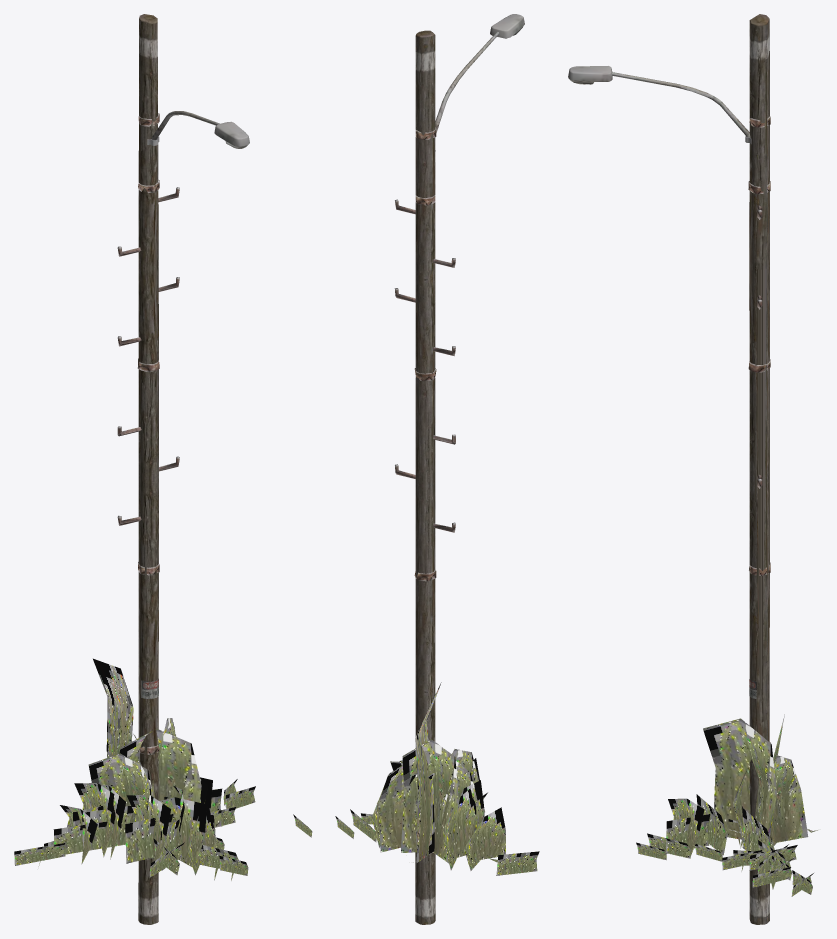
Rendered from powerline_pole_c_streetlight_hapis_off.glb.
3 renders of one model, left to right at view 1: azimuth 30°, elevation 25°; view 2: azimuth 150°, elevation 25°; view 3: azimuth 270°, elevation 25°, orthographic.
Visible parts, largest first — view 1: powerline_pole_c_LOD0, cracks_grass_c_temperate, cracks_grass_a_temperate, cracks_grass_d_temperate, powerline_pole_light_LOD0; view 2: powerline_pole_c_LOD0, cracks_grass_c_temperate, cracks_grass_a_temperate, cracks_grass_d_temperate, powerline_pole_light_LOD0; view 3: powerline_pole_c_LOD0, cracks_grass_a_temperate, cracks_grass_d_temperate, cracks_grass_c_temperate, powerline_pole_light_LOD0.
Boxes of the visible parts, box(x1,y1,x2,y2) form: powerline_pole_c_LOD0: box(117, 14, 179, 924); cracks_grass_c_temperate: box(44, 658, 255, 877); cracks_grass_a_temperate: box(14, 718, 235, 866); cracks_grass_d_temperate: box(133, 760, 248, 880); powerline_pole_light_LOD0: box(147, 111, 249, 148); powerline_pole_c_LOD0: box(394, 30, 455, 924); cracks_grass_c_temperate: box(371, 682, 487, 870); cracks_grass_a_temperate: box(377, 760, 539, 875); cracks_grass_d_temperate: box(293, 749, 478, 842); powerline_pole_light_LOD0: box(435, 14, 524, 151); powerline_pole_c_LOD0: box(748, 14, 770, 924); cracks_grass_a_temperate: box(703, 718, 776, 871); cracks_grass_d_temperate: box(636, 794, 813, 896); cracks_grass_c_temperate: box(728, 714, 817, 889); powerline_pole_light_LOD0: box(568, 66, 751, 143).
Size of the model in its own units: 3.56 by 12.69 by 3.25.
Materials: 2 (2 with a texture image).
